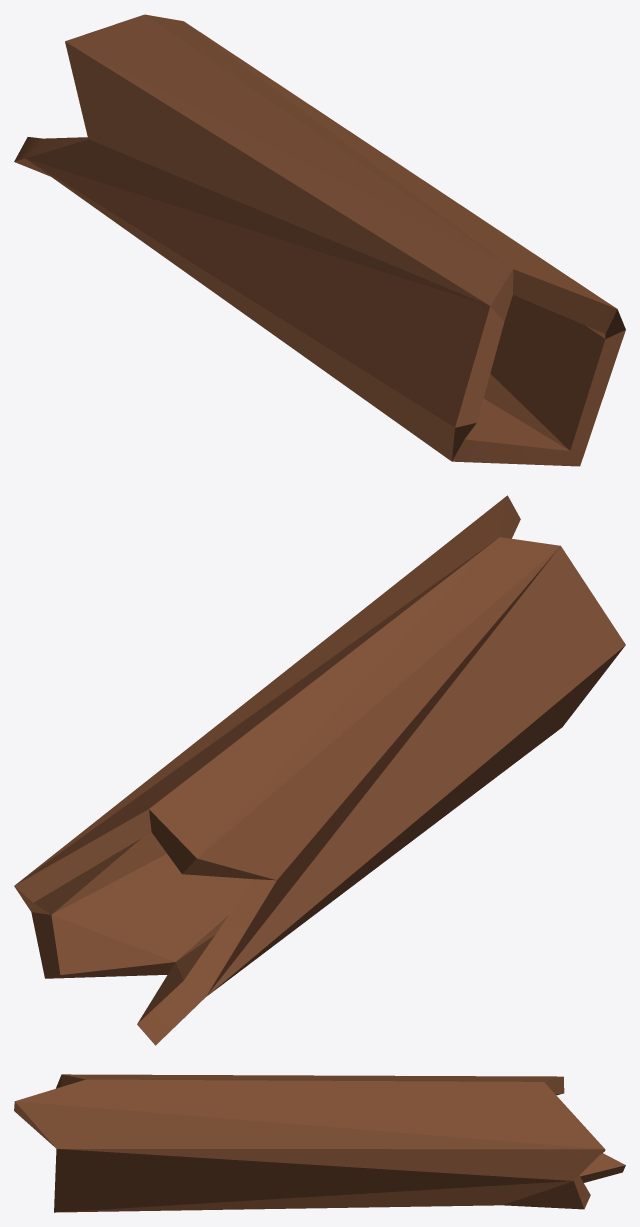
The model's file is TreeBody1.fbx.
The picture shows the model from 3 angles, top to bottom: view 1: azimuth 30°, elevation 25°; view 2: azimuth 150°, elevation 25°; view 3: azimuth 270°, elevation 25°; orthographic projection. The views are drawn at different scales.
Visible parts, largest first — view 1: shudong; view 2: shudong; view 3: shudong.
Boxes of the visible parts, x1,y1,x2,y2 form: shudong: (14, 14, 625, 466); shudong: (14, 495, 625, 1045); shudong: (14, 1074, 625, 1212).
Size of the model in its own units: 2.27 by 2.28 by 9.99.
